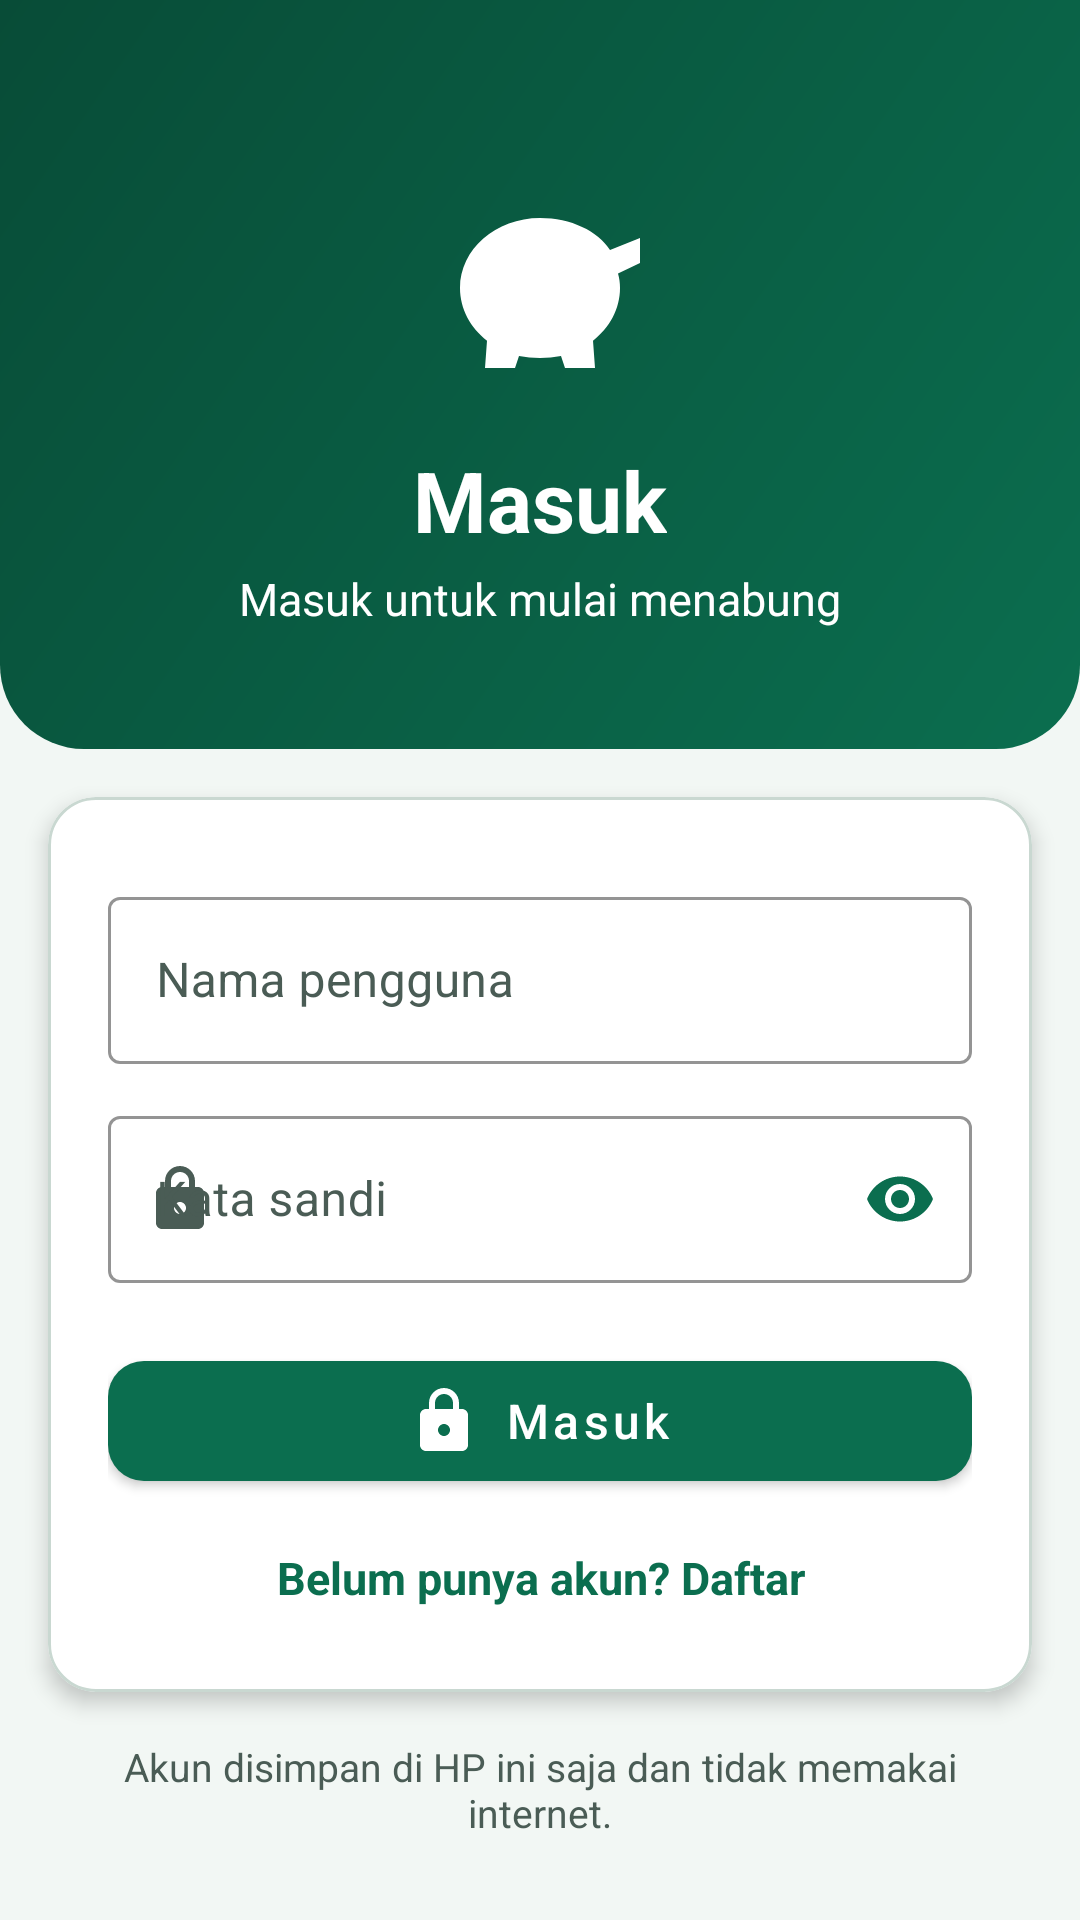

Icon click points for this 1080px×1920px phone screenshot, format [x,y]:
piggy: [550,293]
